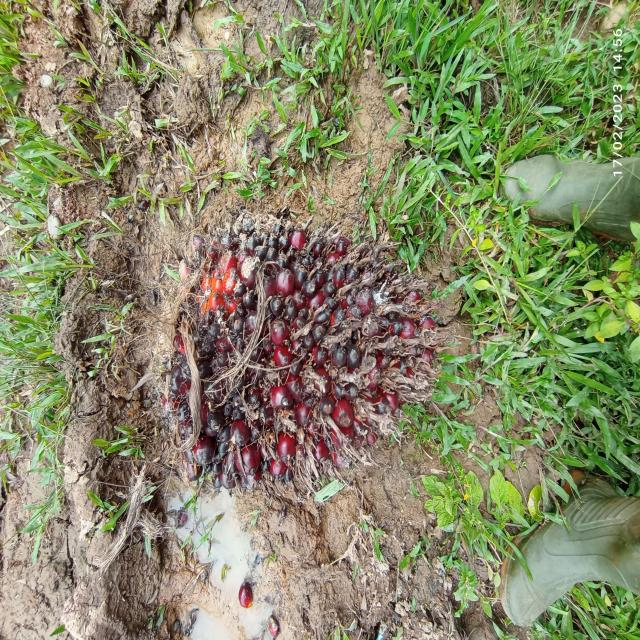fraksi 1: (134, 205, 432, 515)
